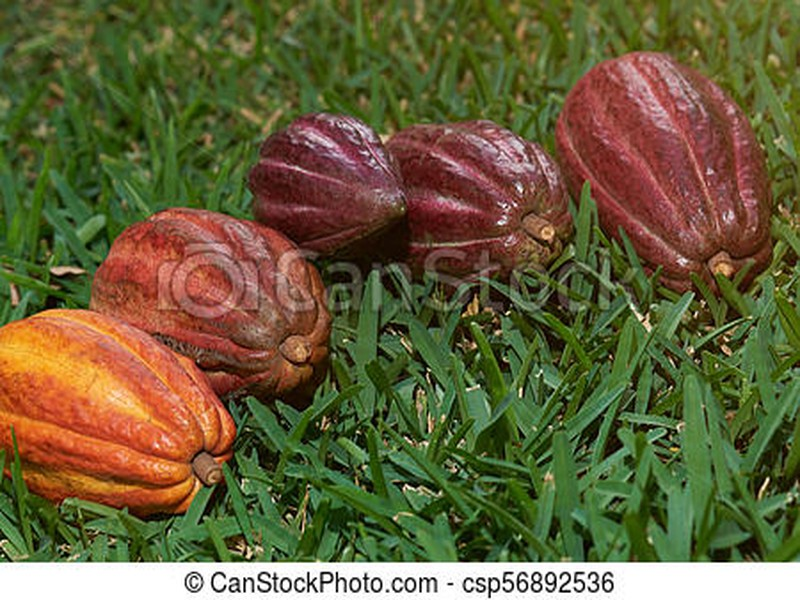Cacaopod: (552, 50, 780, 299), (5, 307, 237, 510), (97, 211, 329, 393)
